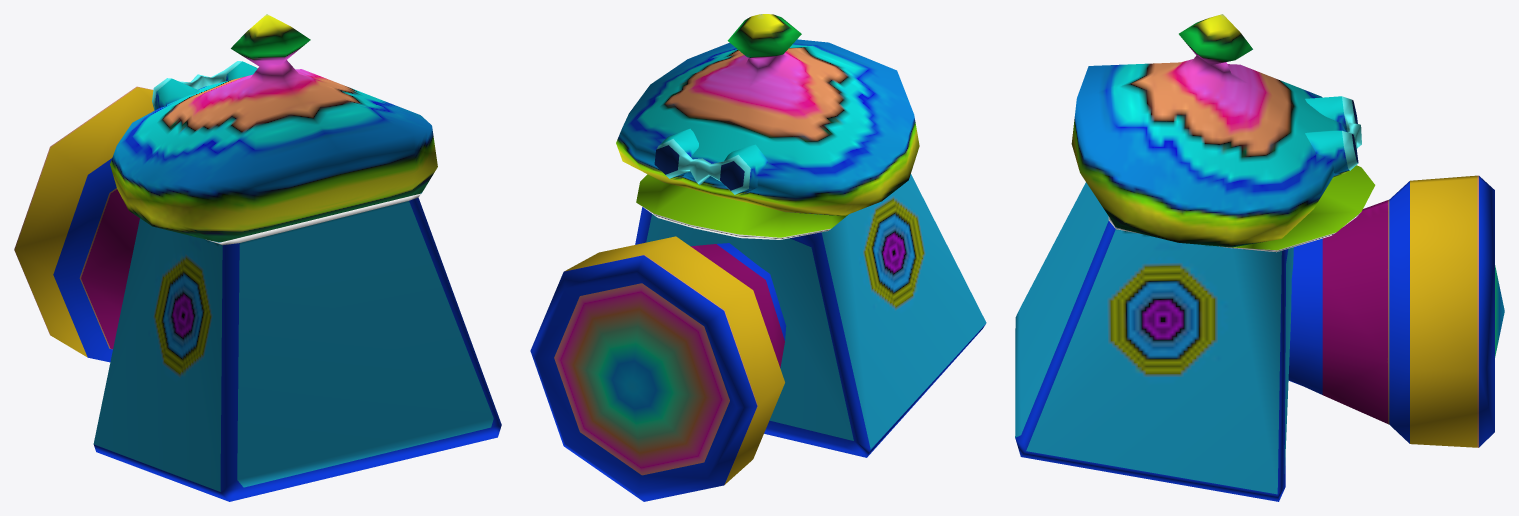
File: abm_sys.ico.obj
The picture shows the model from 3 angles, left to right: view 1: azimuth 30°, elevation 25°; view 2: azimuth 150°, elevation 25°; view 3: azimuth 270°, elevation 25°; orthographic projection. The views are drawn at different scales.
Size of the model in its own units: 2.99 by 4.37 by 4.49.
1 material, 1 textured.
